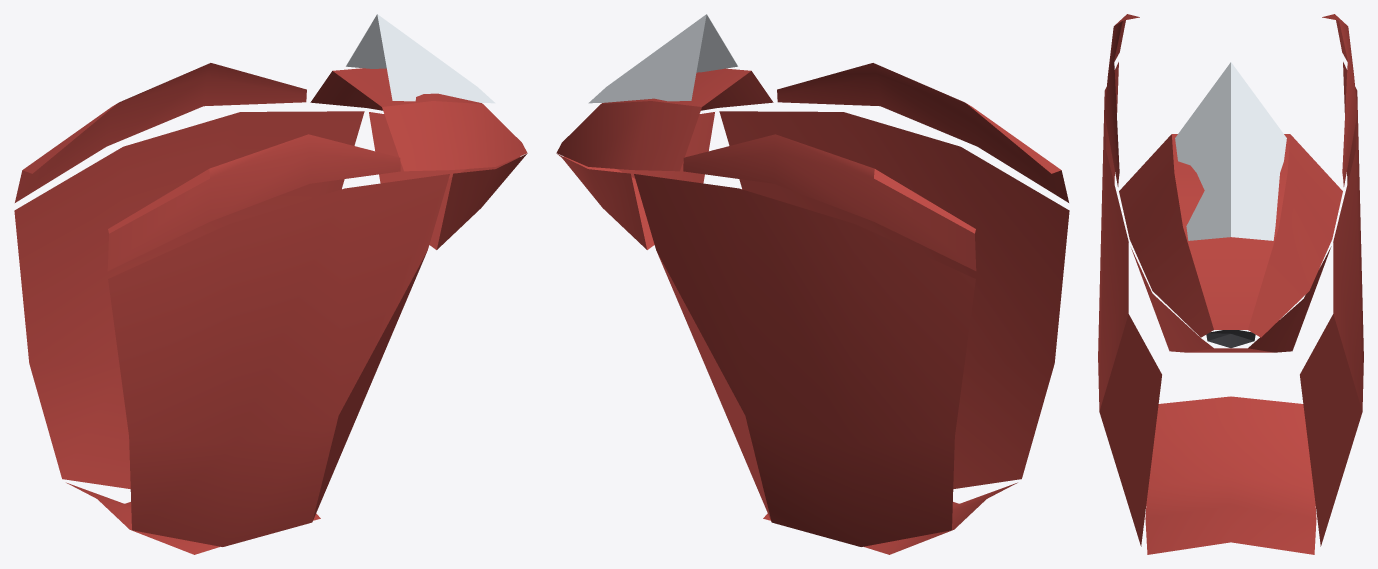
The model's file is sport_lod2.glb.
3 views of the same model, side by side, from view 1: azimuth 30°, elevation 25°; view 2: azimuth 150°, elevation 25°; view 3: azimuth 270°, elevation 25° (orthographic). The views are drawn at different scales.
Parts seen in each view (by area): view 1: sport_lod2; view 2: sport_lod2; view 3: sport_lod2.
Boxes of the visible parts, x1,y1,x2,y2 form: sport_lod2: (14,14,527,554); sport_lod2: (556,14,1069,554); sport_lod2: (1098,14,1363,554).
Size of the model in its own units: 1.01 by 0.9851 by 0.4297.
